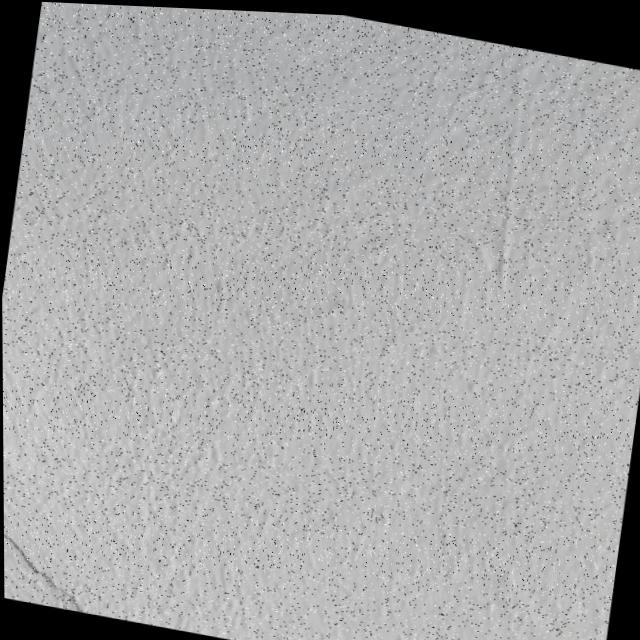Crack: (3, 490, 121, 616)
